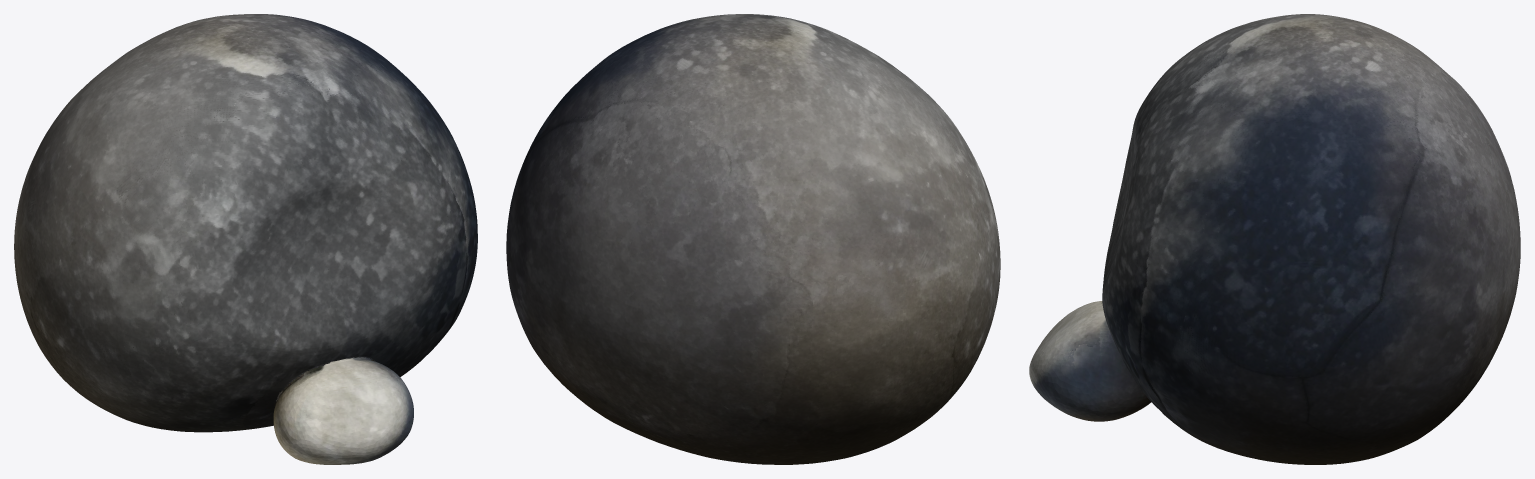
The model's file is traveler_env_coast_iuchi_brook_pebbles_00001_.glb.
3 views of the same model, side by side, from view 1: azimuth 30°, elevation 25°; view 2: azimuth 150°, elevation 25°; view 3: azimuth 270°, elevation 25° (orthographic). The views are drawn at different scales.
Parts seen in each view (by area): view 1: temp_mesh.ply; view 2: temp_mesh.ply; view 3: temp_mesh.ply.
Part boxes in pixels (<box>): temp_mesh.ply: <box>14,14,477,464</box>; temp_mesh.ply: <box>506,14,1000,464</box>; temp_mesh.ply: <box>1029,14,1520,464</box>.
Bounding box in the file's own units: 1.97 × 1.67 × 1.95.
1 material, 1 textured.
